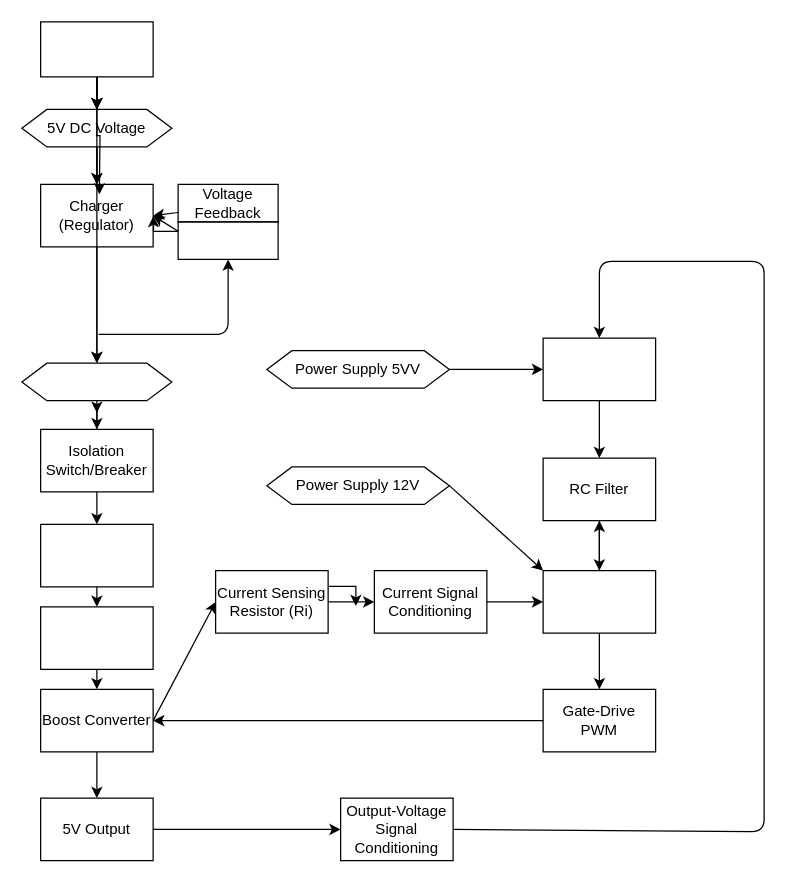
The diagram is 796 pixels wide and 883 high, and some of its shapes have lost their labels. The centre of each missing label's shape, as x and y in pixels:
"0–3.5 V DC, up to 0.5 A" belongs at (x=96, y=381).
"2.5–3.5 V DC to Boost Converter" belongs at (x=96, y=637).
"5V Micro USB Input" belongs at (x=96, y=49).
"ATMega328PB" belongs at (x=599, y=369).
"Current Feedback" belongs at (x=227, y=240).
"Energy Storage Element (Super Capacitor)" belongs at (x=96, y=555).
"UC3843" belongs at (x=599, y=601).
